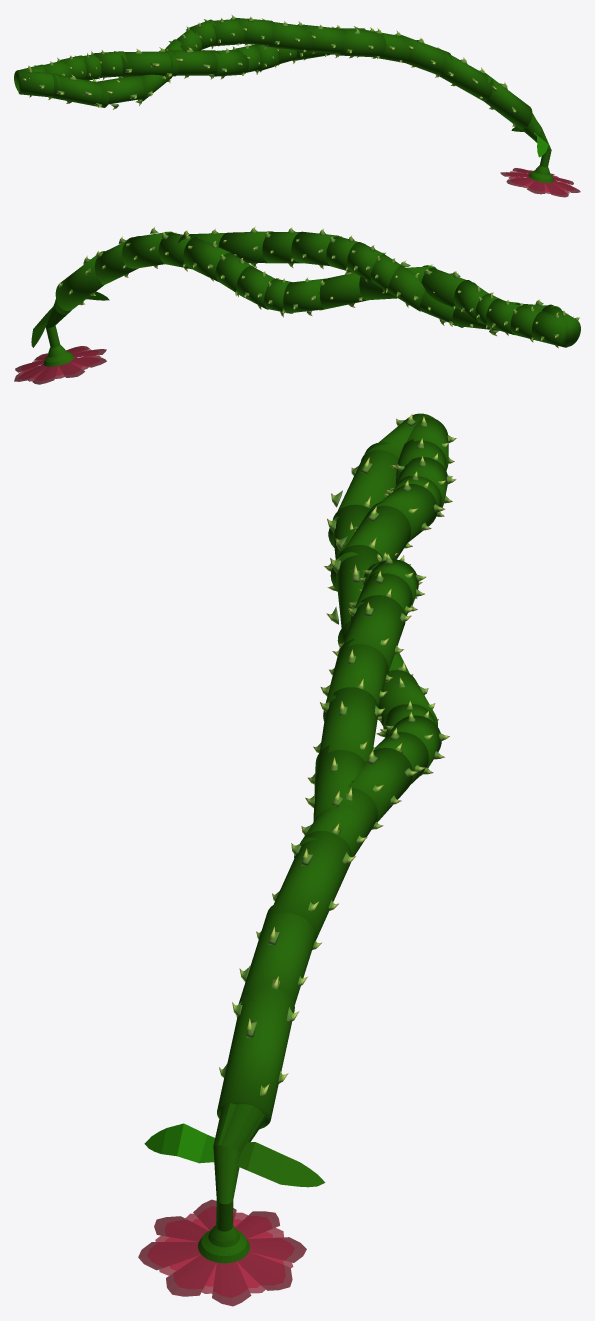
Rendered from Vine_Bush_With_Flower.fbx.
3 views of the same model, one above another, from view 1: azimuth 30°, elevation 25°; view 2: azimuth 150°, elevation 25°; view 3: azimuth 270°, elevation 25° (orthographic). The views are drawn at different scales.
Parts seen in each view (by area): view 1: Cylinder, Cylinder.001, Cylinder.002; view 2: Cylinder, Cylinder.001, Cylinder.002; view 3: Cylinder, Cylinder.002, Cylinder.001.
Part boxes in pixels (box(x1,y1,x2,y2)): Cylinder: box(14, 25, 532, 129); Cylinder.001: box(18, 14, 386, 109); Cylinder.002: box(500, 113, 580, 197); Cylinder: box(55, 227, 573, 348); Cylinder.001: box(178, 226, 580, 346); Cylinder.002: box(14, 291, 109, 384); Cylinder: box(217, 416, 456, 1129); Cylinder.002: box(138, 1103, 325, 1306); Cylinder.001: box(305, 413, 449, 821).
Size of the model in its own units: 1064 by 427 by 288.
